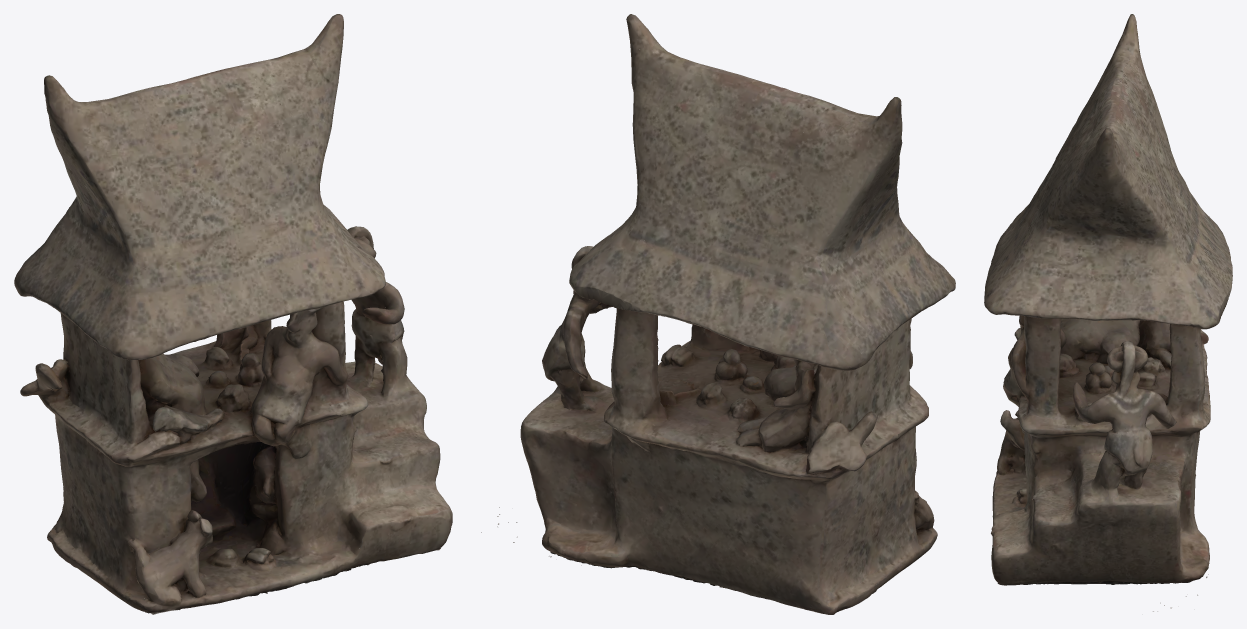
File: preview.glb
3 renders of one model, left to right at view 1: azimuth 30°, elevation 25°; view 2: azimuth 150°, elevation 25°; view 3: azimuth 270°, elevation 25°, orthographic. The views are drawn at different scales.
Parts seen in each view (by area): view 1: default_n3d; view 2: default_n3d; view 3: default_n3d.
Boxes of the visible parts, x1=… form: default_n3d: x1=14, y1=14, x2=452, y2=614; default_n3d: x1=481, y1=14, x2=955, y2=614; default_n3d: x1=984, y1=14, x2=1232, y2=611.
Bounding box in the file's own units: 0.2427 × 0.2959 × 0.1522.
1 material, 1 textured.
